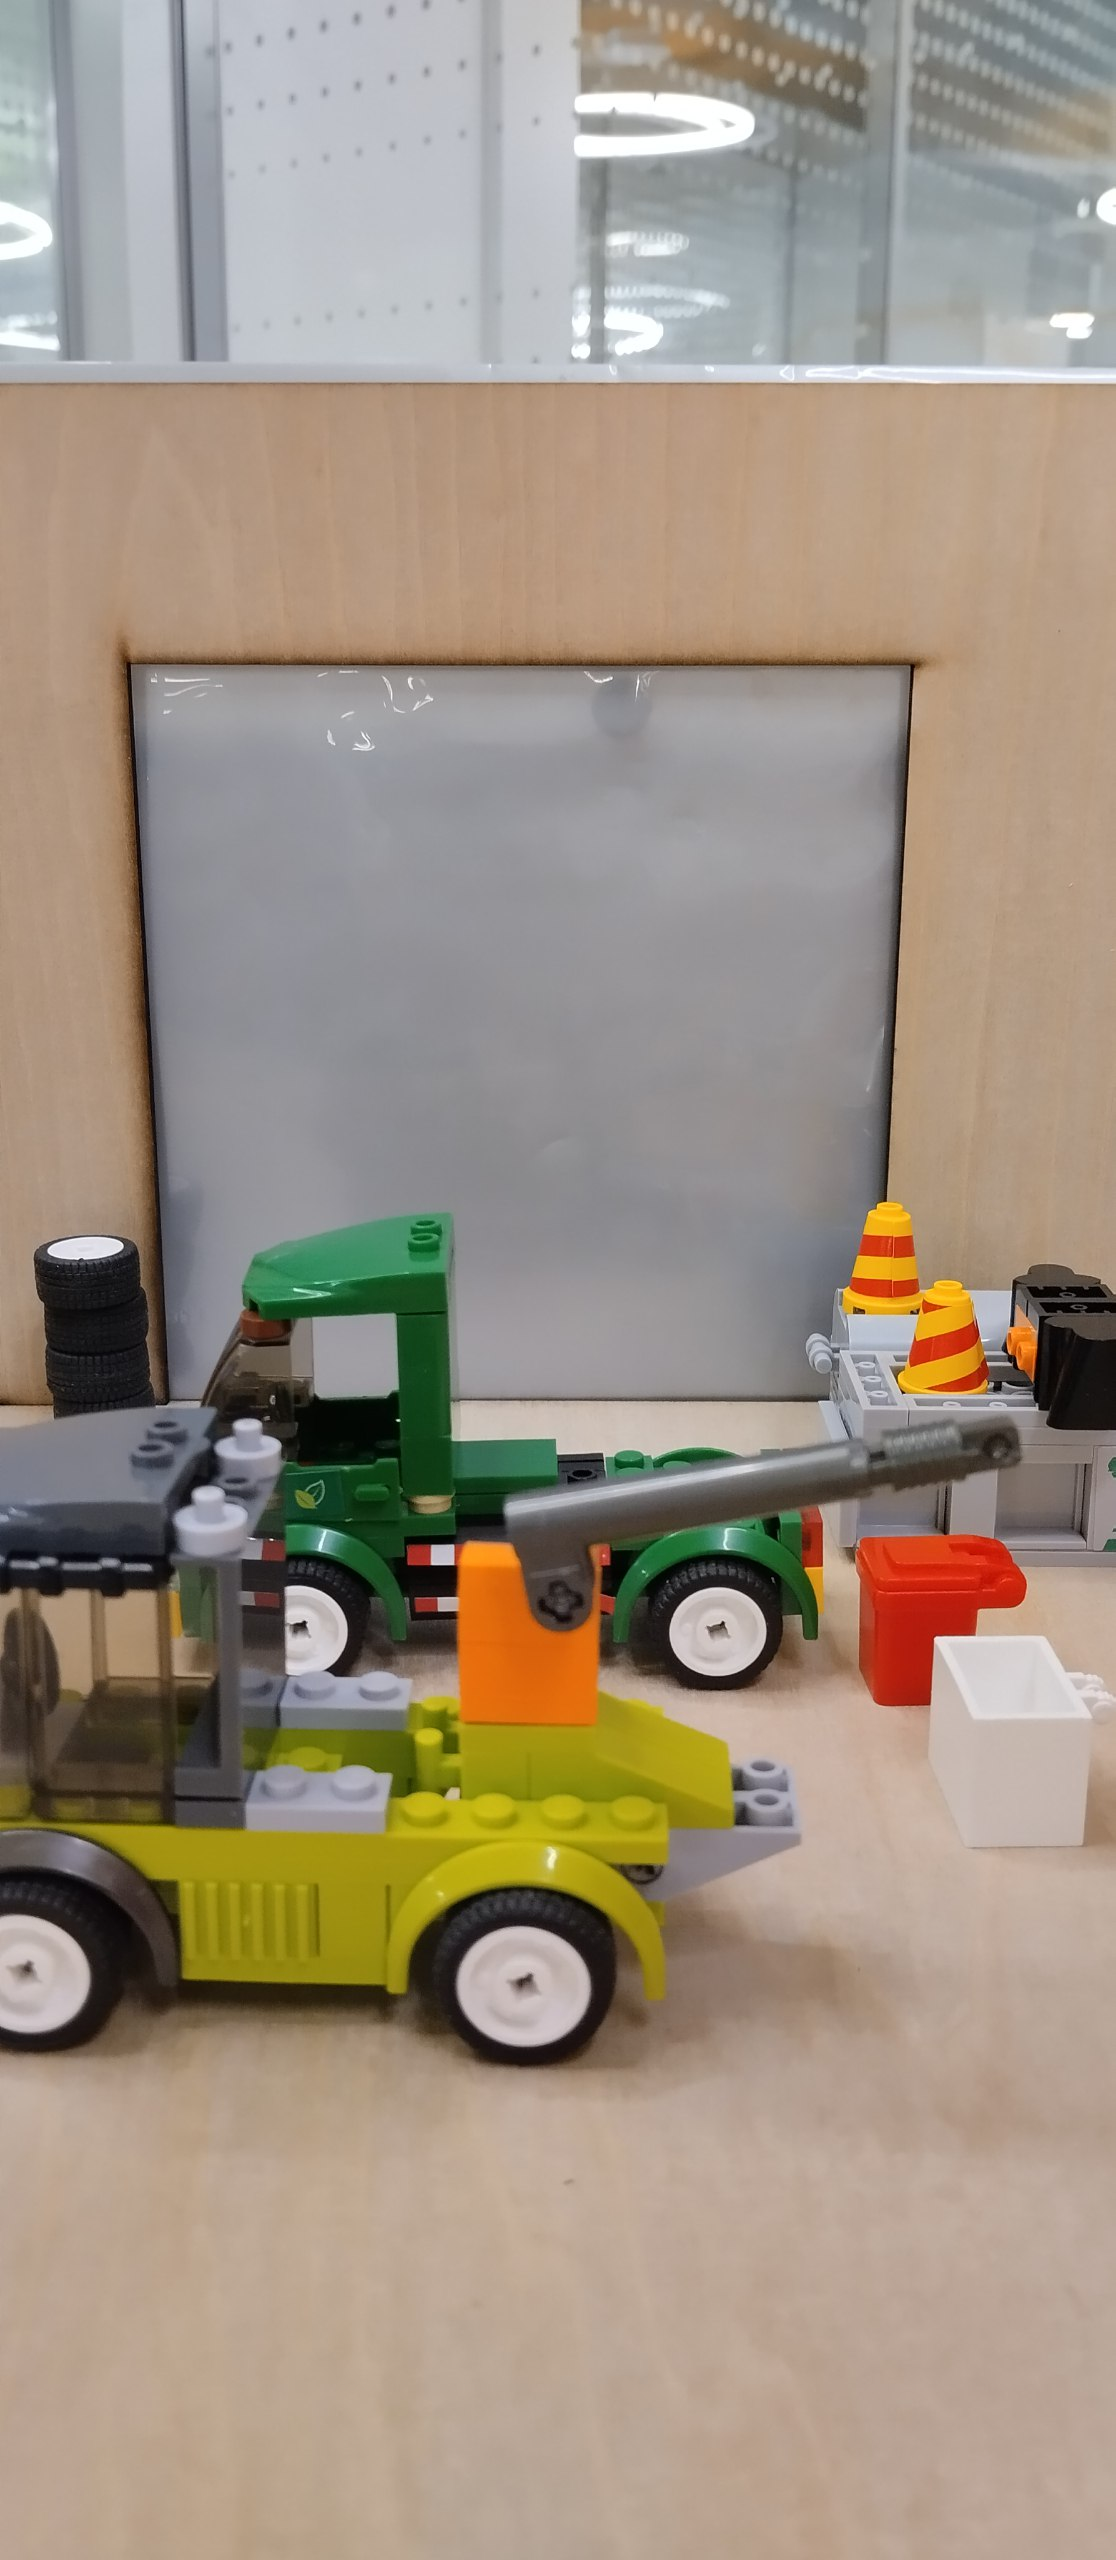Cone: (896, 1277, 989, 1402), (840, 1202, 923, 1309)
Crane: (8, 1409, 1015, 2069)
Object Black: (1003, 1264, 1116, 1430)
Object Red: (853, 1531, 1030, 1706)
Object white: (933, 1633, 1114, 1851)
Truck: (162, 1211, 824, 1696)
